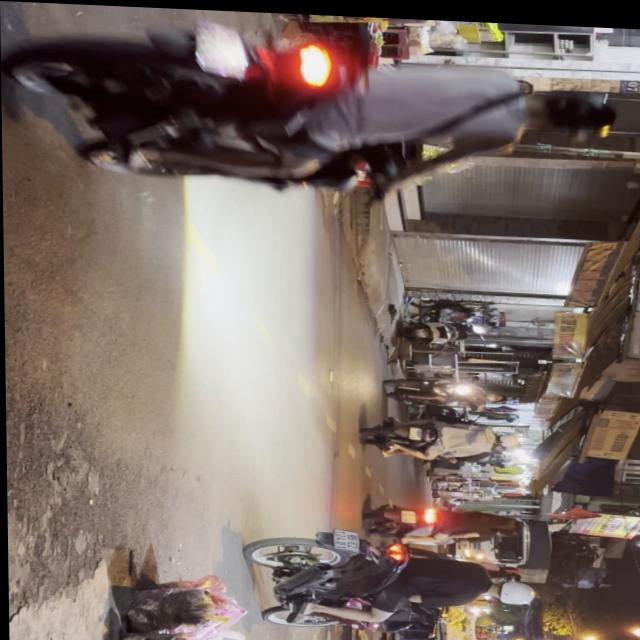helmet: (521, 78, 619, 141), (488, 572, 535, 600)
licenseplate: (0, 2, 623, 203), (243, 521, 539, 634)
nohelmet: (199, 16, 248, 74), (333, 525, 359, 549)
